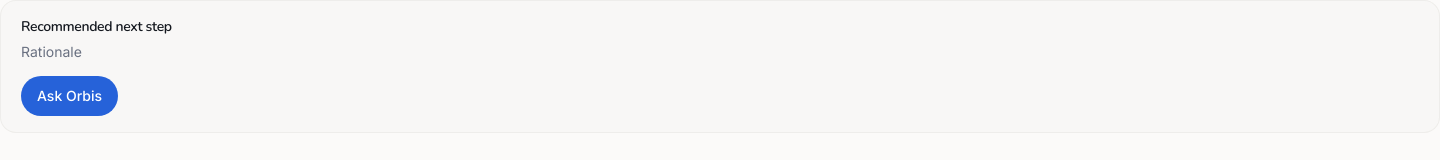
Scenario: NextStepCard › prevents double-fire while loading / pending
The image size is (1440, 160).
What coordinates should you click on to do the following:
click the button "Ask Orbis"
I would click on:
 (70, 96)
Its box is [21,76,118,116].
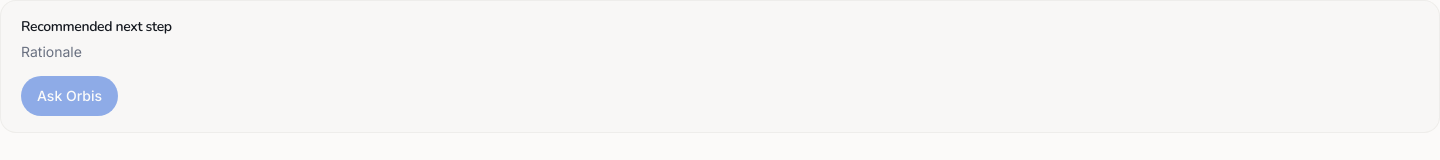
What coordinates should you click on to do the following:
click the button "Ask Orbis"
I would click on:
 (70, 96)
Its box is [21,76,118,116].
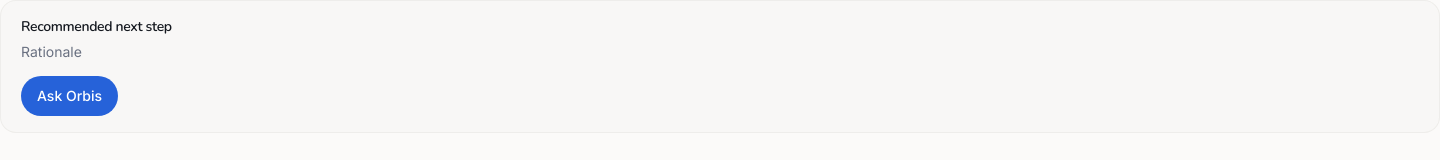
Expected: the button "Ask Orbis" is enabled, [21,76,118,116]
